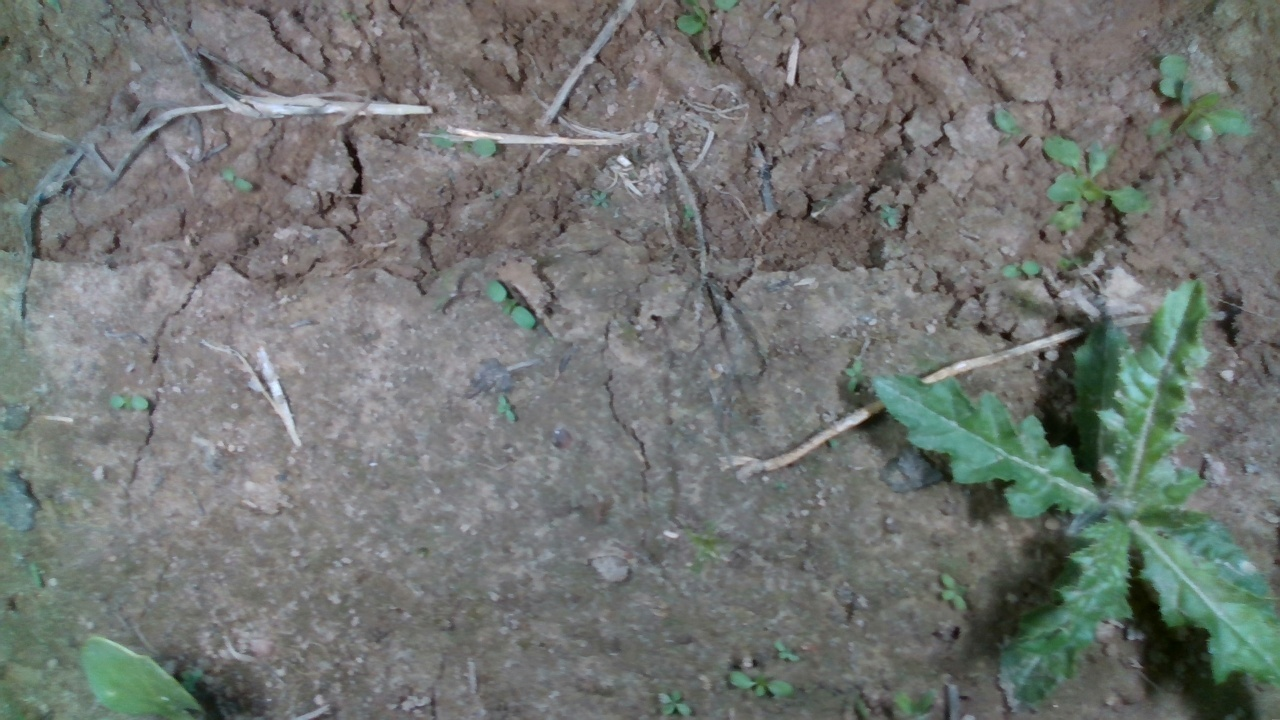weed: (482, 277, 536, 330), (725, 667, 795, 699), (937, 571, 971, 612), (655, 688, 693, 718), (218, 165, 254, 193), (998, 257, 1043, 279), (107, 390, 150, 412), (494, 391, 516, 426), (773, 637, 801, 663)
